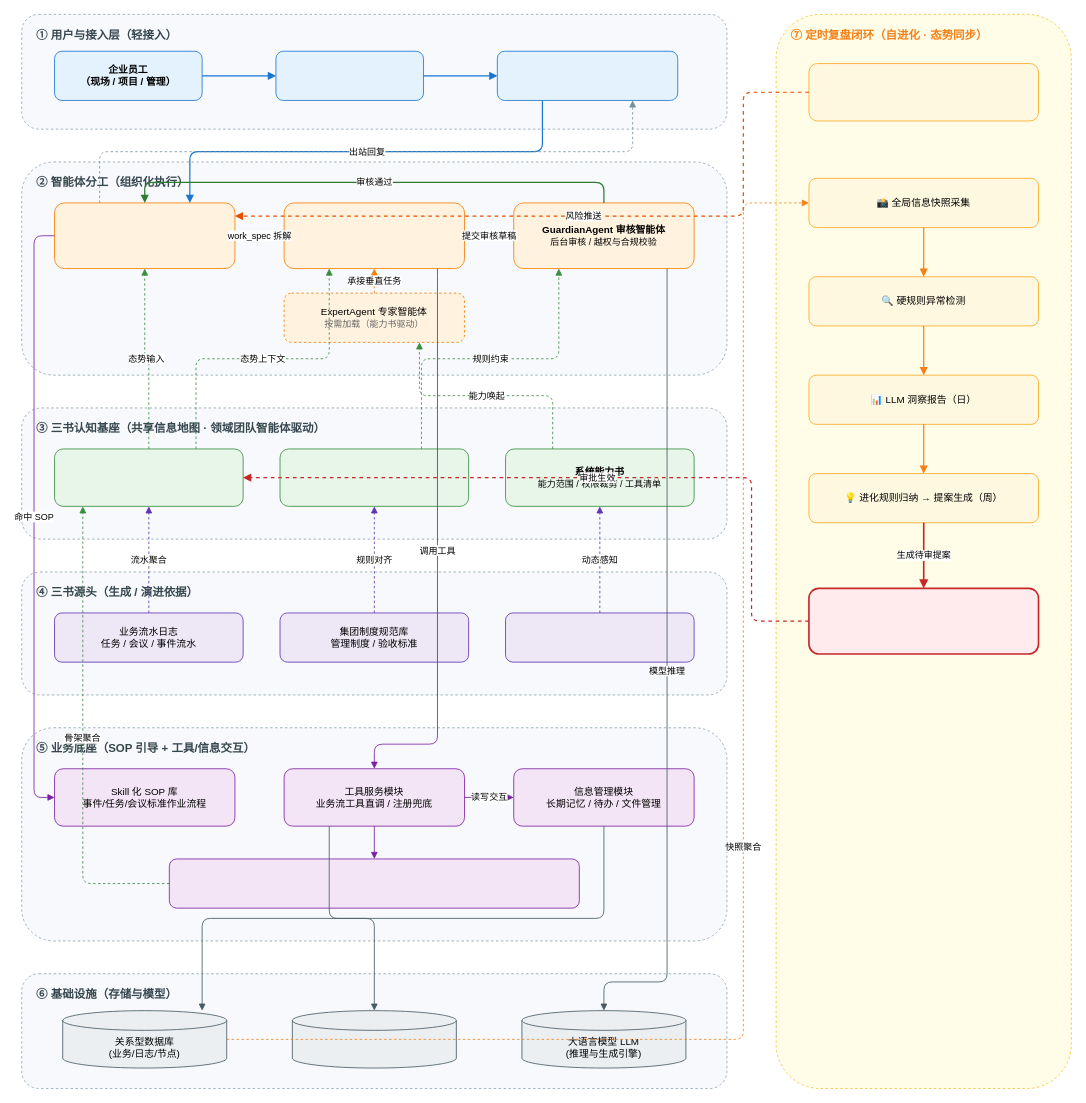
Image size: 1086x1103. Some labels were removed from this diagram. The shapes that lost their labels are listed below. From the top down, each one's centre as x and y in pixels, then its label:
point (349, 75): IM 平台 （自然语言交互界面）
point (587, 75): 接入插件（薄网关） 去重 + 标准化 + 转发
point (923, 92): ☀️ 节点风险晨报 （日复盘 / 晨间主动推送）
point (144, 235): SessionAgent 会话智能体 前台组织 / 快回 / 意图识别 / 聚合
point (374, 235): WorkItemAgent 任务智能体 中台执行者 / 流程调度闭环
point (148, 477): 项目态势书 全景节点骨架 · 七层认知聚合
point (374, 477): 组织规则书 架构边界 / 管控规则 / 职责
point (599, 637): 能力注册包 插件 / 专家 / 技能注册
point (923, 620): 👤 人工审批放行 （管理员 / 责任人 · 系统仅提案）
point (374, 883): 全景节点图（项目态势感知引擎） LLM 增强 FSM · 三态流转 · 依赖链加权
point (374, 1039): RAG 向量库 (规范/知识检索)
